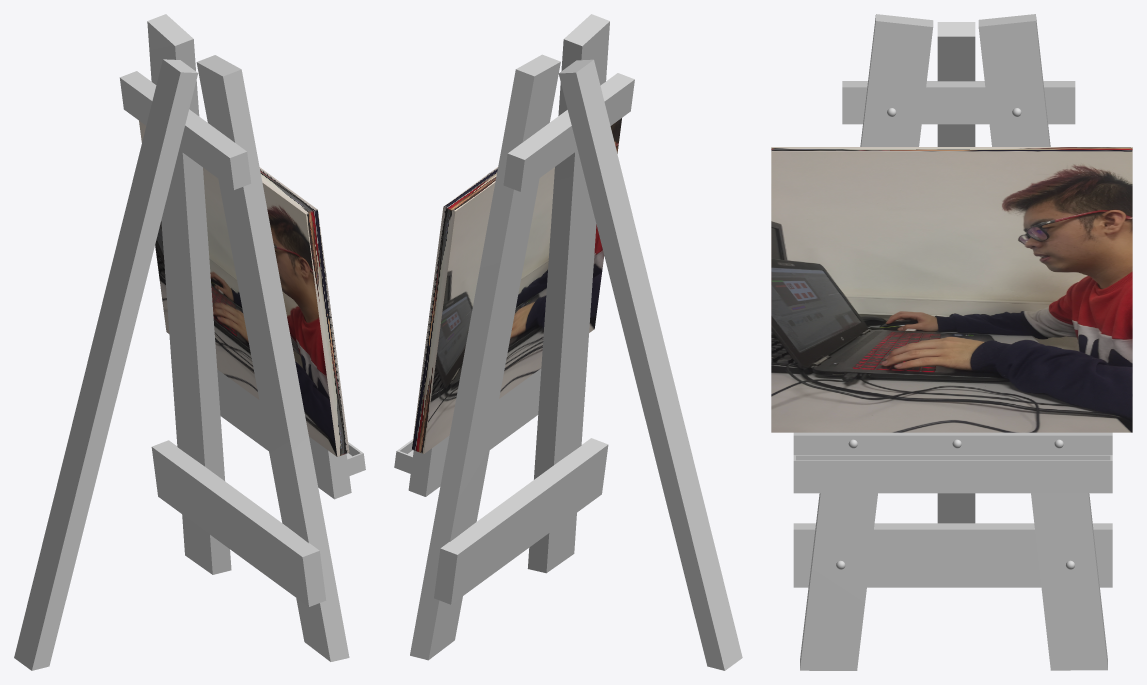
File: caballete.FBX
The picture shows the model from 3 angles, left to right: view 1: azimuth 30°, elevation 25°; view 2: azimuth 150°, elevation 25°; view 3: azimuth 270°, elevation 25°; orthographic projection. The views are drawn at different scales.
Visible parts, largest first — view 1: Box006, Box002, Box008, Box001, Box004, Box003, Box005; view 2: Box006, Box001, Box008, Box002, Box004, Box003, Box005; view 3: Box008, Box005, Box002, Box001, Box004, Box003, Box006.
Part boxes in pixels (x1,y1,x2,y2): Box006: (14,59,198,670); Box002: (196,55,349,661); Box008: (139,121,349,456); Box001: (147,14,231,574); Box004: (151,440,326,606); Box003: (119,71,251,189); Box005: (217,369,365,499); Box006: (558,59,742,670); Box001: (410,54,560,660); Box008: (412,118,621,453); Box002: (527,14,609,573); Box004: (434,438,608,604); Box003: (503,73,634,191); Box005: (394,368,541,496); Box008: (771,147,1132,432); Box005: (793,432,1112,493); Box002: (800,14,933,670); Box001: (978,14,1107,670); Box004: (793,523,1112,587); Box003: (842,81,1075,124); Box006: (937,22,975,523).
Bounding box in the file's own units: 55.43 × 115 × 61.72.
Materials: 1 (1 with a texture image).
